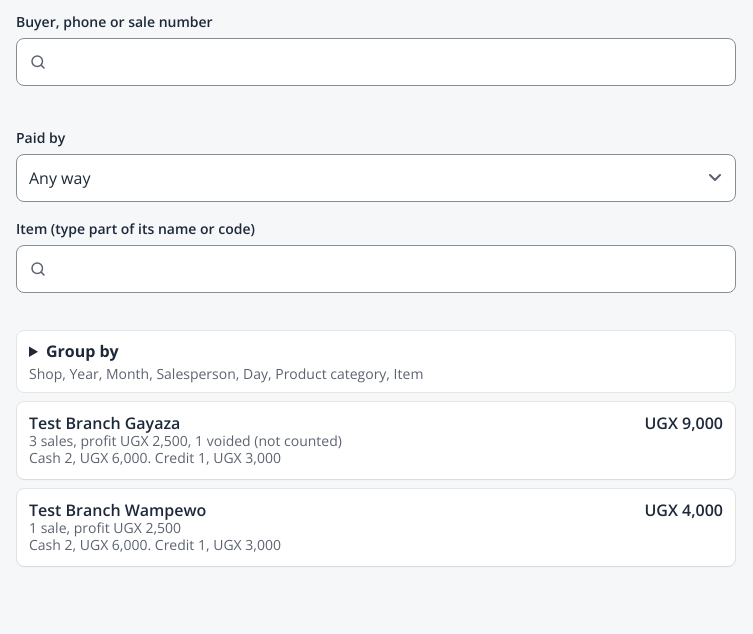
Test: the default chain › reaches the sales and Record payment on the default chain through "Show the sales of this day"
What coordinates should you click on to do the following:
click the button "Test Branch Gayaza "
I would click on:
 (105, 423)
Its box is [17, 402, 735, 479].
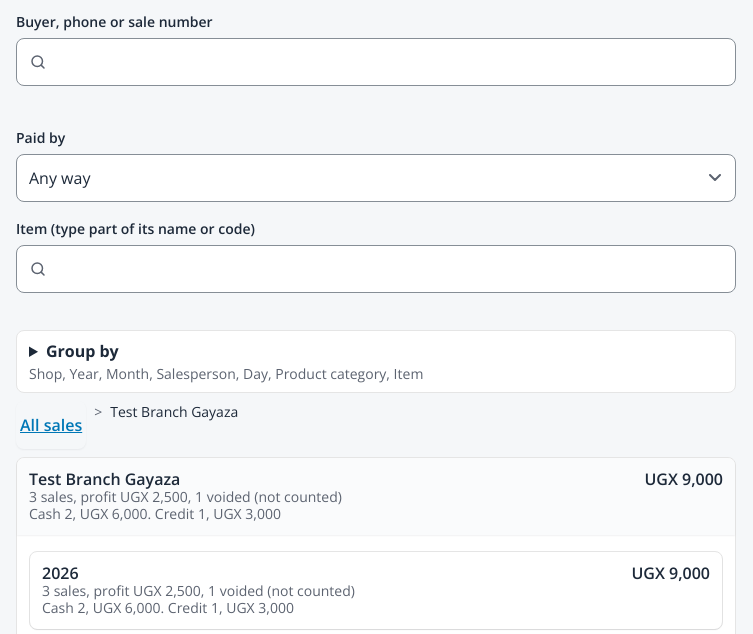
What coordinates should you click on to do the following:
click the button "2026 "
I would click on:
 (60, 573)
Its box is [30, 552, 722, 629].
(page scrolled)
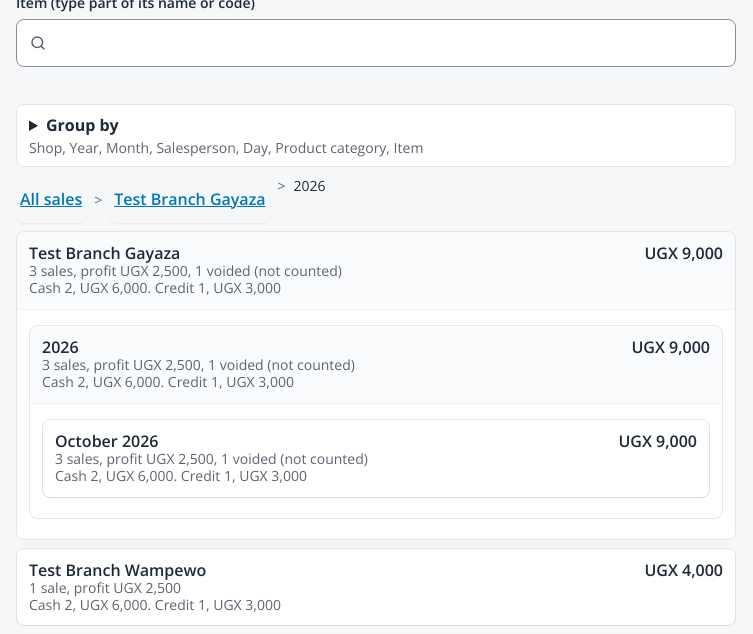
What coordinates should you click on to do the following:
click the button "October 2026 "
I would click on:
 (107, 441)
Its box is [43, 420, 709, 497].
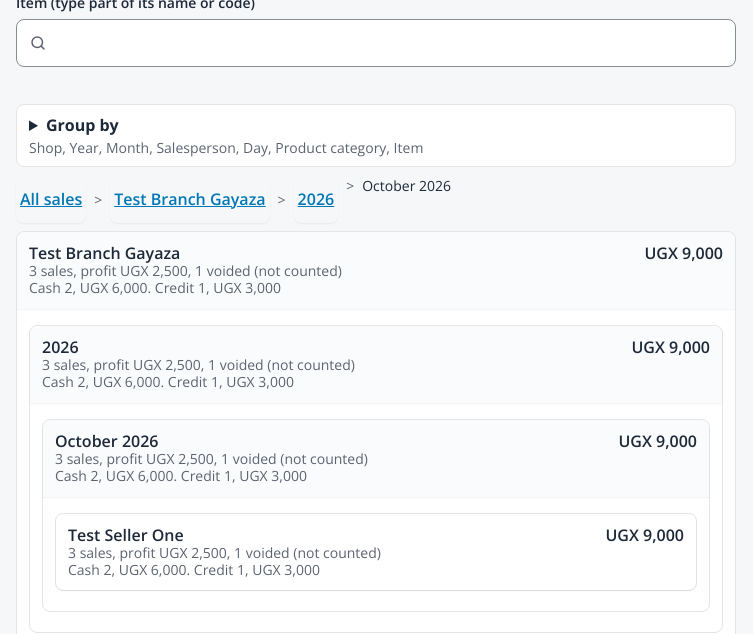
What coordinates should you click on to do the following:
click the button "Test Seller One "
I would click on:
 (376, 552)
Its box is [56, 514, 696, 590].
(page scrolled)
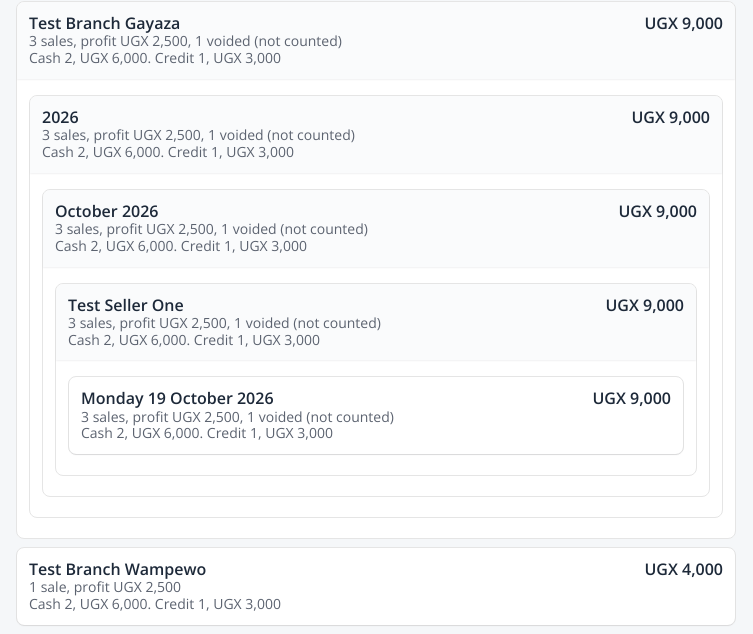
What coordinates should you click on to do the following:
click the button that starts with "Monday 19 October 2026"
I would click on:
 (376, 416)
Its box is [69, 377, 683, 454].
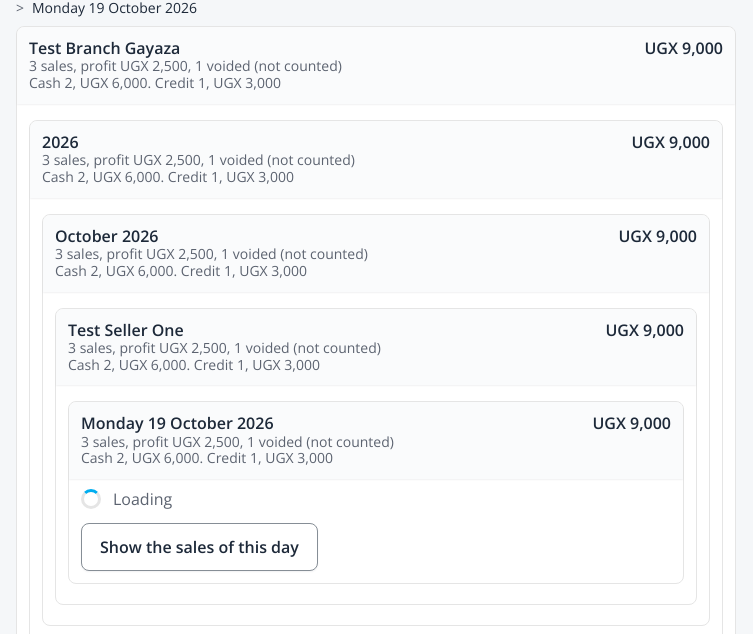
Expected: the text "Test Buyer One" is not shown
What coordinates should you click on to do the following:
click the button "Show the sales of this day"
I would click on:
 (199, 547)
Its box is [81, 523, 318, 571].
(page scrolled)
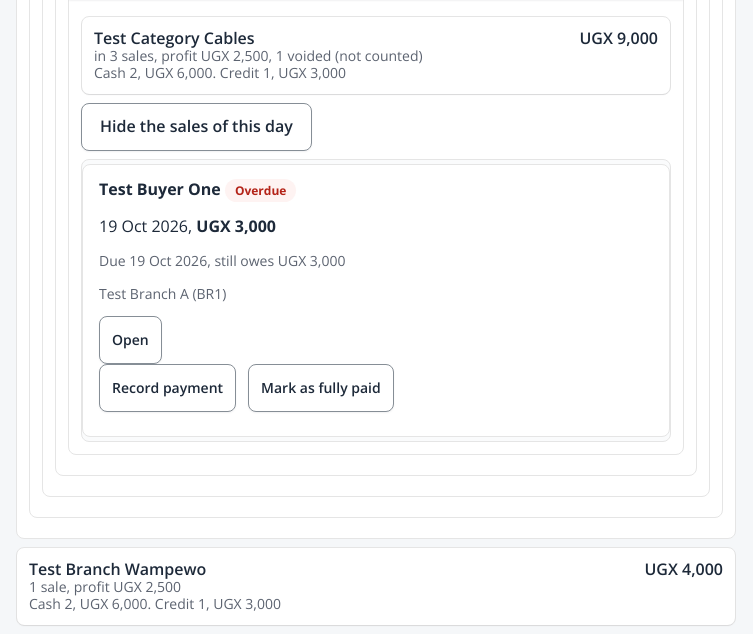
Result: the text "Test Buyer One" is shown at [99, 178, 221, 200]
Result: the button "Record payment" is shown at [99, 364, 236, 412]
